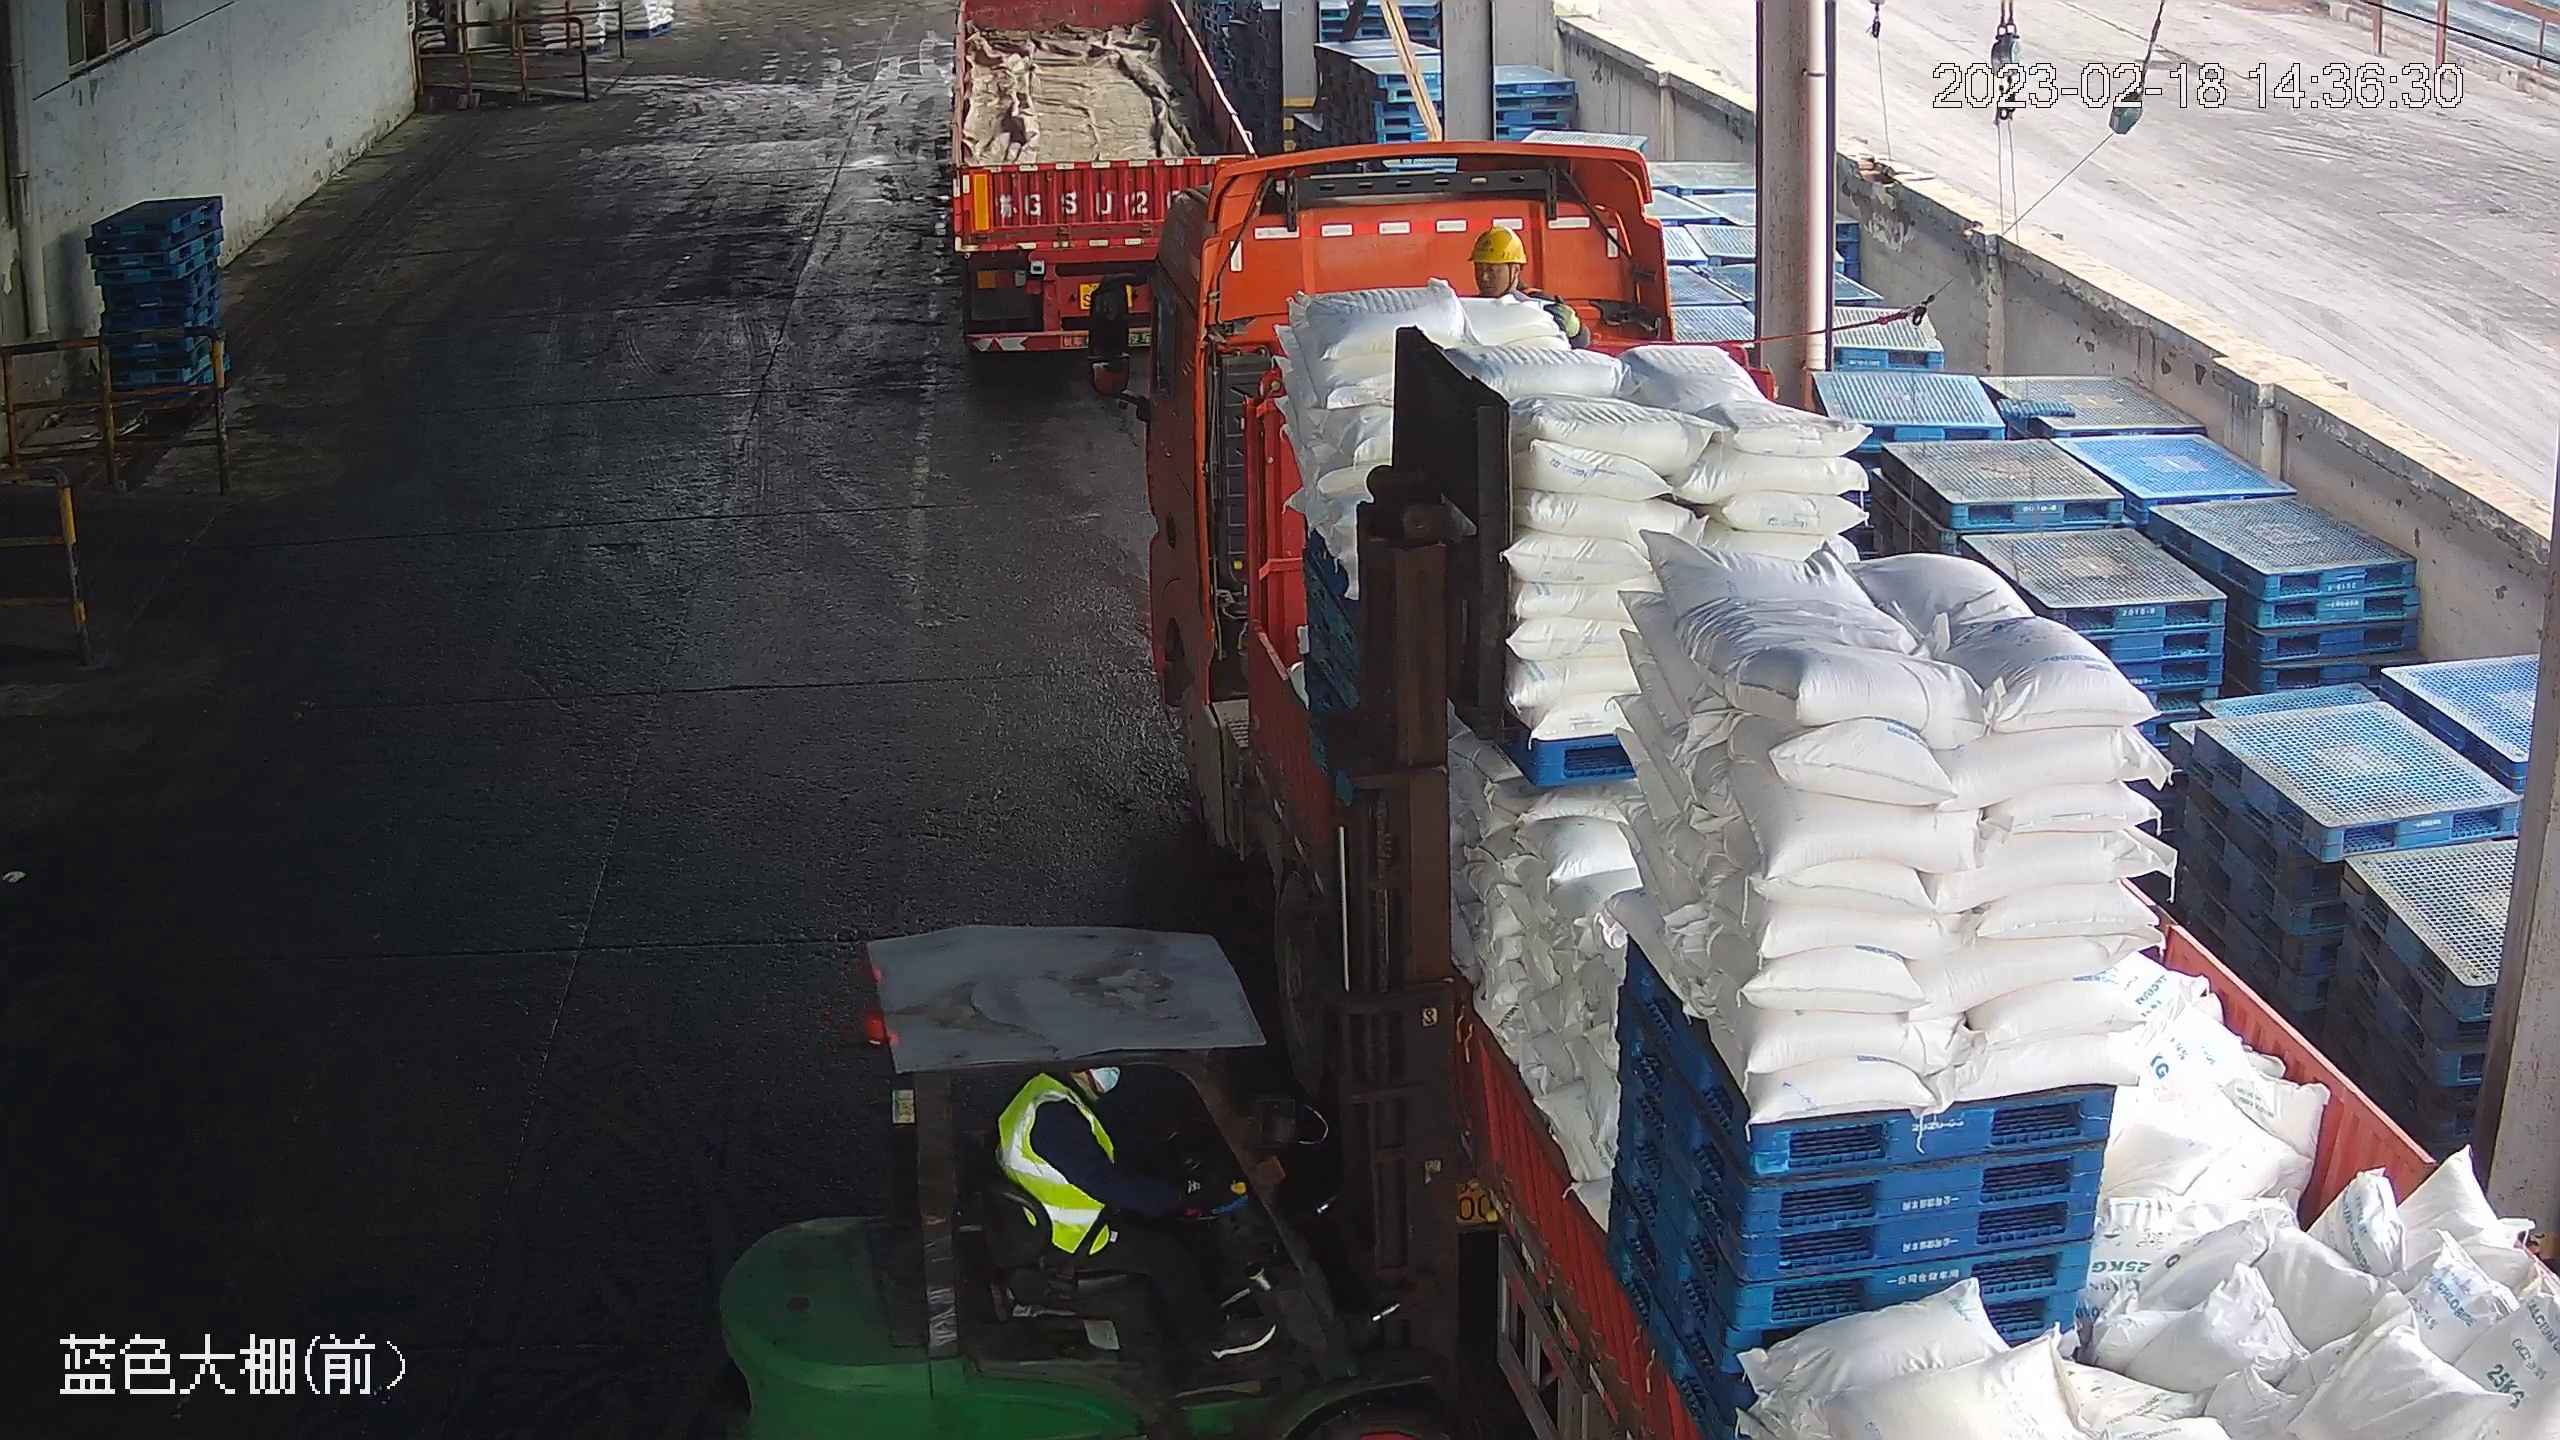helmet: (1466, 227, 1527, 266)
people: (998, 1060, 1278, 1360)
truck: (1145, 141, 2560, 1440)
